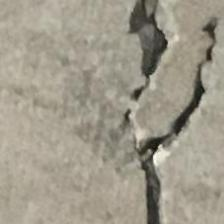Crack: (94, 0, 224, 224)
